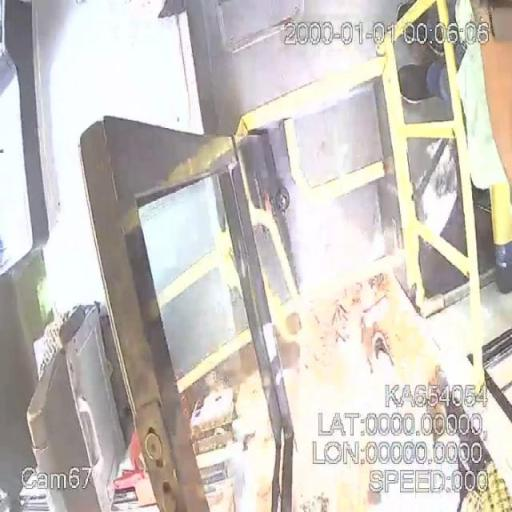persona: (386, 0, 512, 214), (336, 336, 454, 512)
